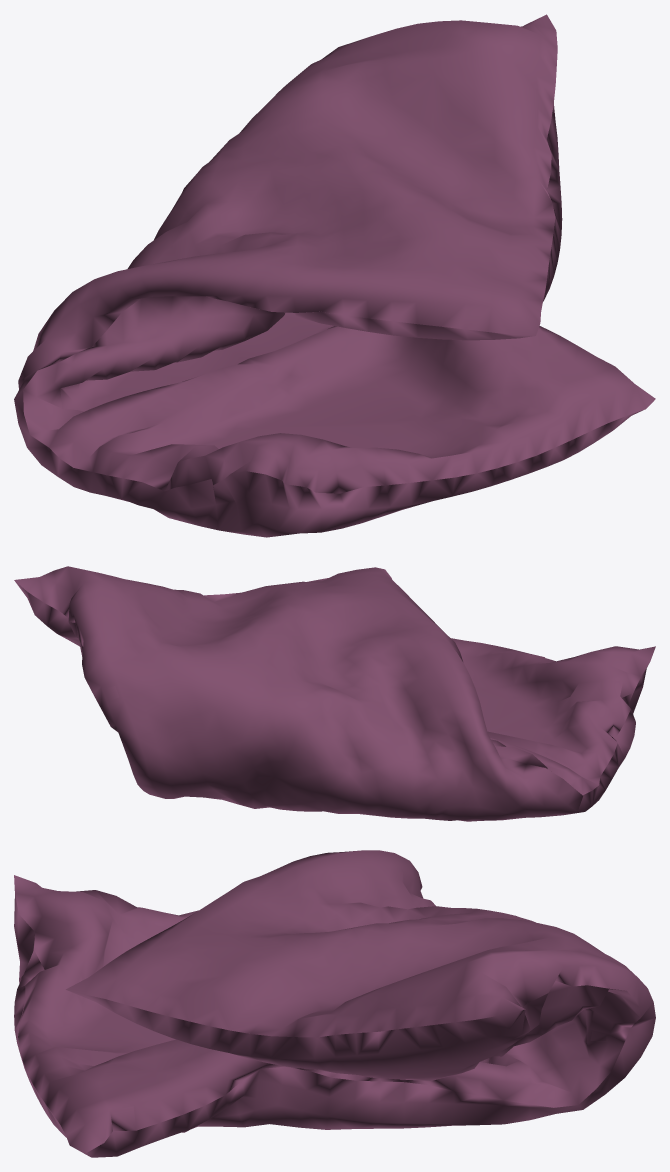
File: BedB_SheetTop_B.FBX
3 renders of one model, top to bottom at view 1: azimuth 30°, elevation 25°; view 2: azimuth 150°, elevation 25°; view 3: azimuth 270°, elevation 25°, orthographic. The views are drawn at different scales.
Visible parts, largest first — view 1: SheetE; view 2: SheetE; view 3: SheetE.
Part boxes in pixels (bbox=[...]): SheetE: bbox=[14, 14, 655, 537]; SheetE: bbox=[14, 566, 655, 821]; SheetE: bbox=[14, 850, 655, 1157].
Size of the model in its own units: 41.79 by 16.21 by 37.82.
